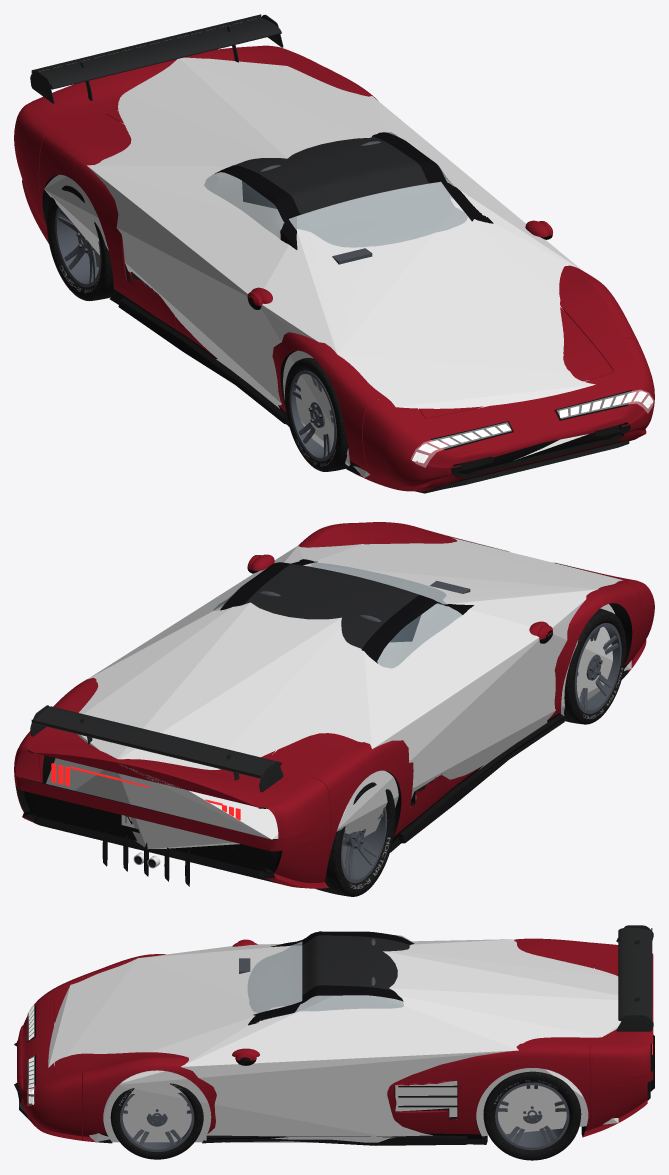
File: noctra_sable_lod0.glb
3 renders of one model, top to bottom at view 1: azimuth 30°, elevation 25°; view 2: azimuth 150°, elevation 25°; view 3: azimuth 270°, elevation 25°, orthographic. The views are drawn at different scales.
Parts seen in each view (by area): view 1: col_body, body, trim, glass, wheel_RR, wheel_FR, lights_front, interior, underbody; view 2: col_body, body, trim, wheel_FR, wheel_RR, glass, underbody, interior, lights_rear; view 3: col_body, body, trim, wheel_RL, glass, wheel_FL, lights_front.
Part boxes in pixels (x1=…): col_body: x1=44, y1=57, x2=595, y2=477; body: x1=14, y1=45, x2=654, y2=491; trim: x1=30, y1=14, x2=631, y2=493; glass: x1=204, y1=132, x2=467, y2=247; wheel_RR: x1=46, y1=185, x2=113, y2=301; wheel_FR: x1=284, y1=358, x2=348, y2=471; lights_front: x1=411, y1=389, x2=653, y2=467; interior: x1=242, y1=141, x2=380, y2=264; underbody: x1=42, y1=175, x2=632, y2=489; col_body: x1=46, y1=537, x2=631, y2=848; body: x1=14, y1=522, x2=654, y2=888; trim: x1=30, y1=538, x2=596, y2=886; wheel_FR: x1=563, y1=608, x2=626, y2=724; wheel_RR: x1=316, y1=782, x2=395, y2=896; glass: x1=213, y1=562, x2=462, y2=668; underbody: x1=34, y1=603, x2=632, y2=884; interior: x1=260, y1=580, x2=470, y2=801; lights_rear: x1=51, y1=763, x2=240, y2=824; col_body: x1=48, y1=939, x2=621, y2=1142; body: x1=14, y1=931, x2=653, y2=1144; trim: x1=19, y1=925, x2=654, y2=1145; wheel_RL: x1=483, y1=1071, x2=581, y2=1160; glass: x1=248, y1=935, x2=412, y2=1012; wheel_FL: x1=110, y1=1083, x2=203, y2=1159; lights_front: x1=27, y1=1003, x2=34, y2=1105.
Size of the model in its own units: 1.95 by 1.15 by 4.55.
Materials: 15 (3 with a texture image).
